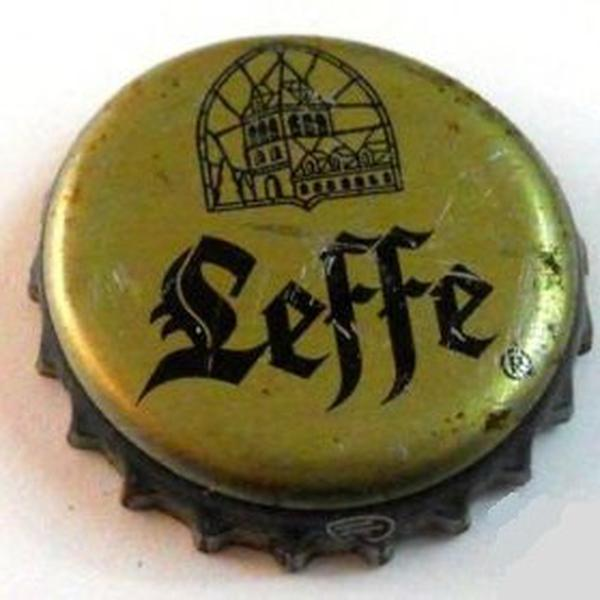leffe: (11, 11, 600, 582)
